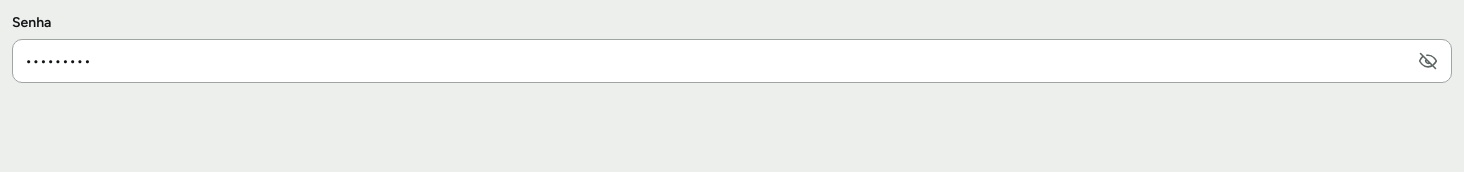
Scenario: campo de senha › olho fechado oculta e olho aberto mostra a senha
This screenshot has width=1464, height=172.
Click the button named "Mostrar senha" at (1428, 61), box [1408,41,1448,81]
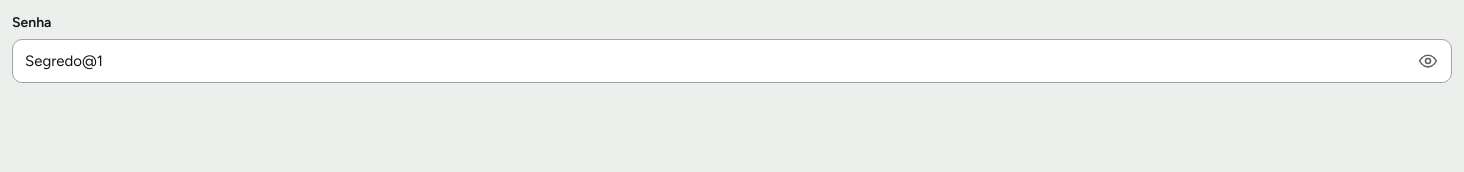
Expected: the field labelled "Senha" shows its text, [12,39,1452,83]
Click the button named "Ocultar senha" at (1428, 61), box [1408,41,1448,81]
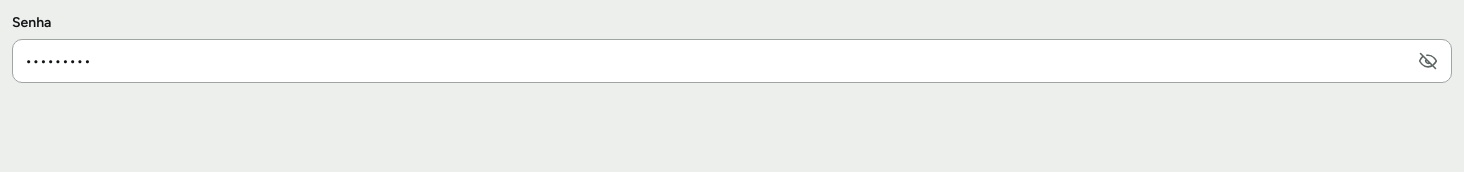
Expected: the password field labelled "Senha" hides its text, [12,39,1452,83]
